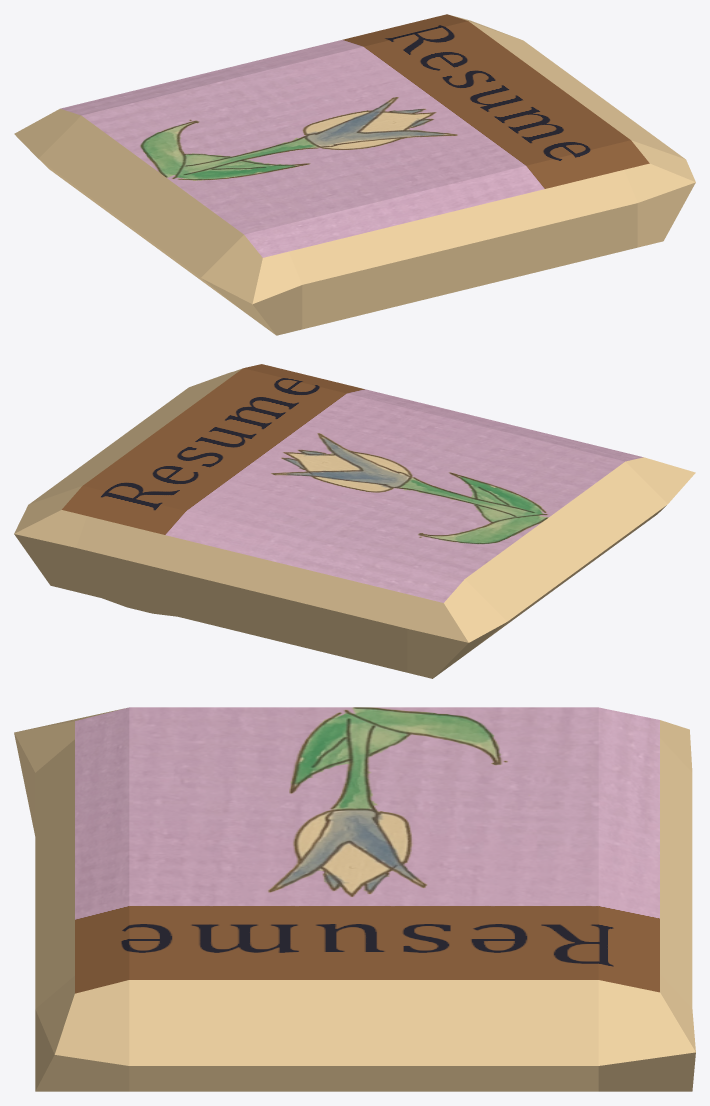
File: packet_6.glb
The picture shows the model from 3 angles, top to bottom: view 1: azimuth 30°, elevation 25°; view 2: azimuth 150°, elevation 25°; view 3: azimuth 270°, elevation 25°; orthographic projection. The views are drawn at different scales.
Visible parts, largest first — view 1: Cube; view 2: Cube; view 3: Cube.
Part boxes in pixels (x1,y1,x2,y2): Cube: (14,14,695,335); Cube: (14,364,695,678); Cube: (14,707,695,1091).
Size of the model in its own units: 2.46 by 0.3898 by 2.08.
Materials: 1 (1 with a texture image).
